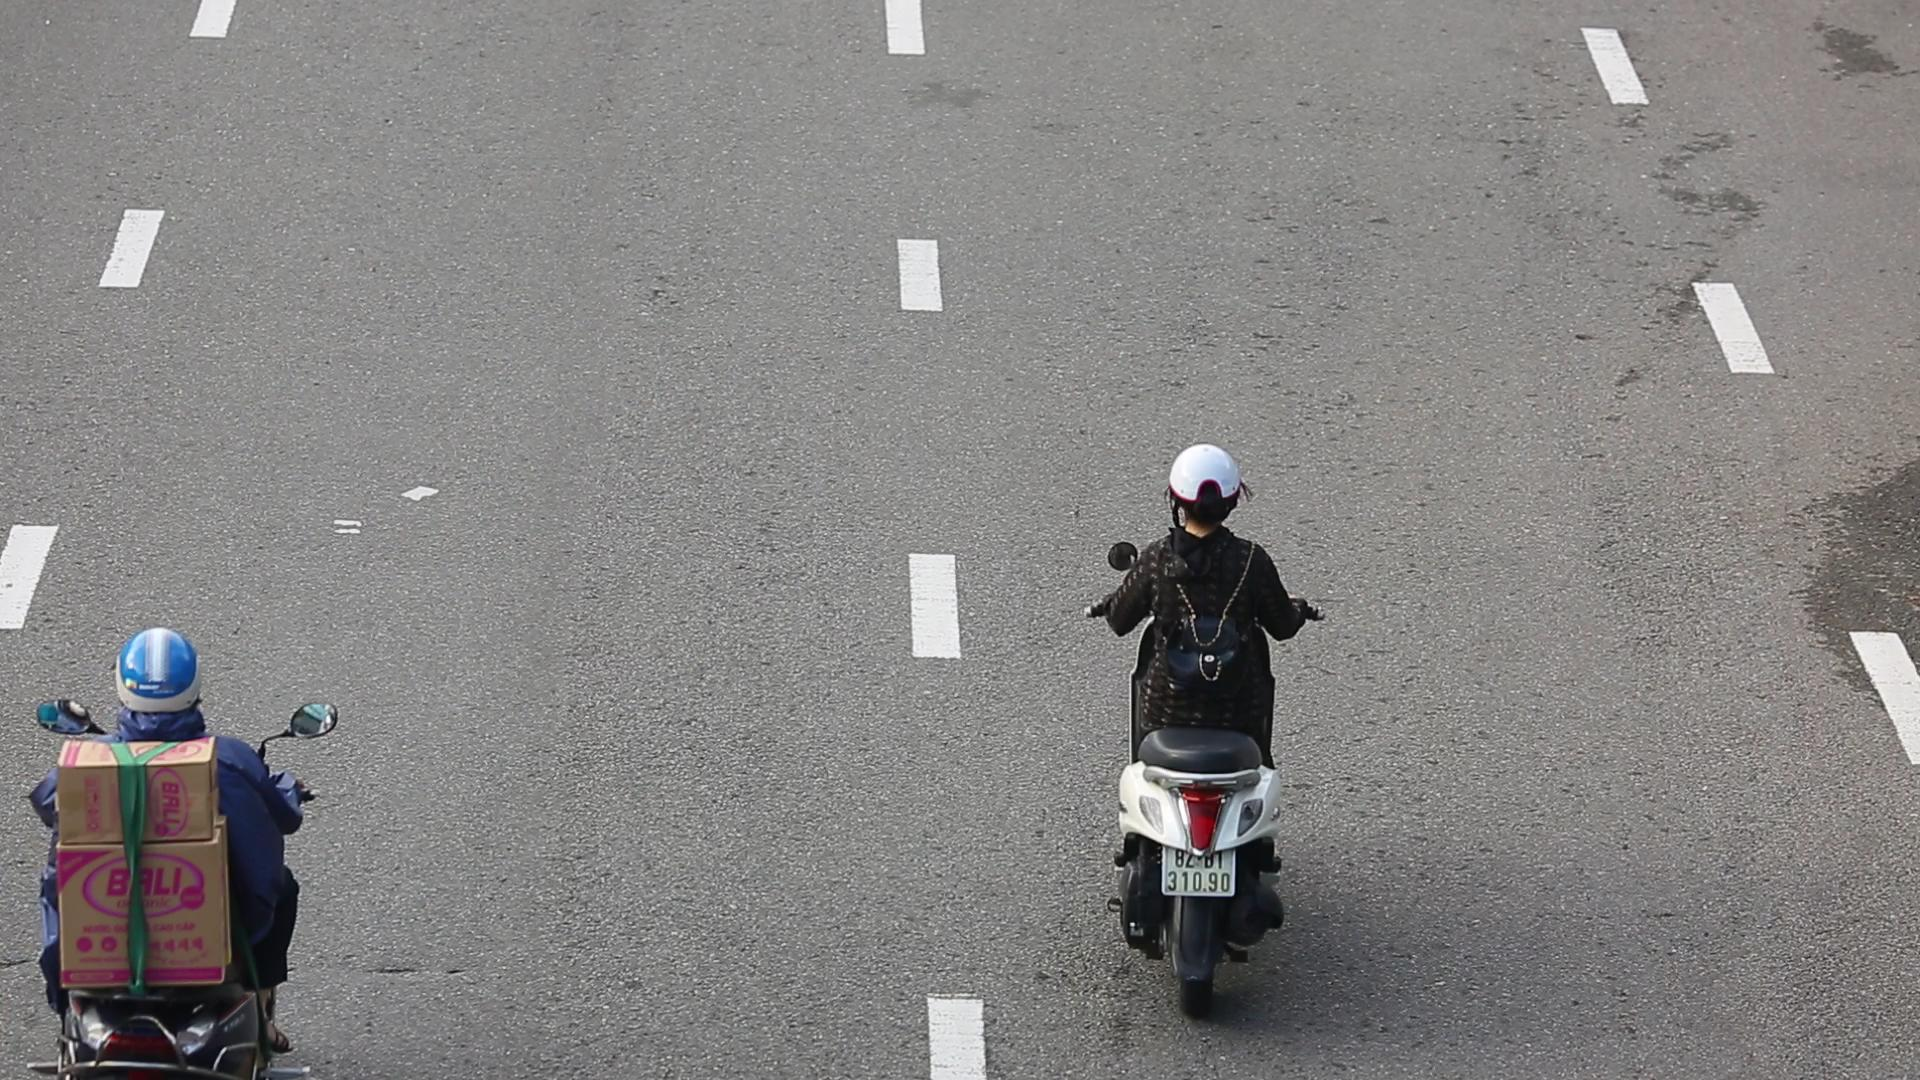motobike: (1080, 422, 1320, 1015)
